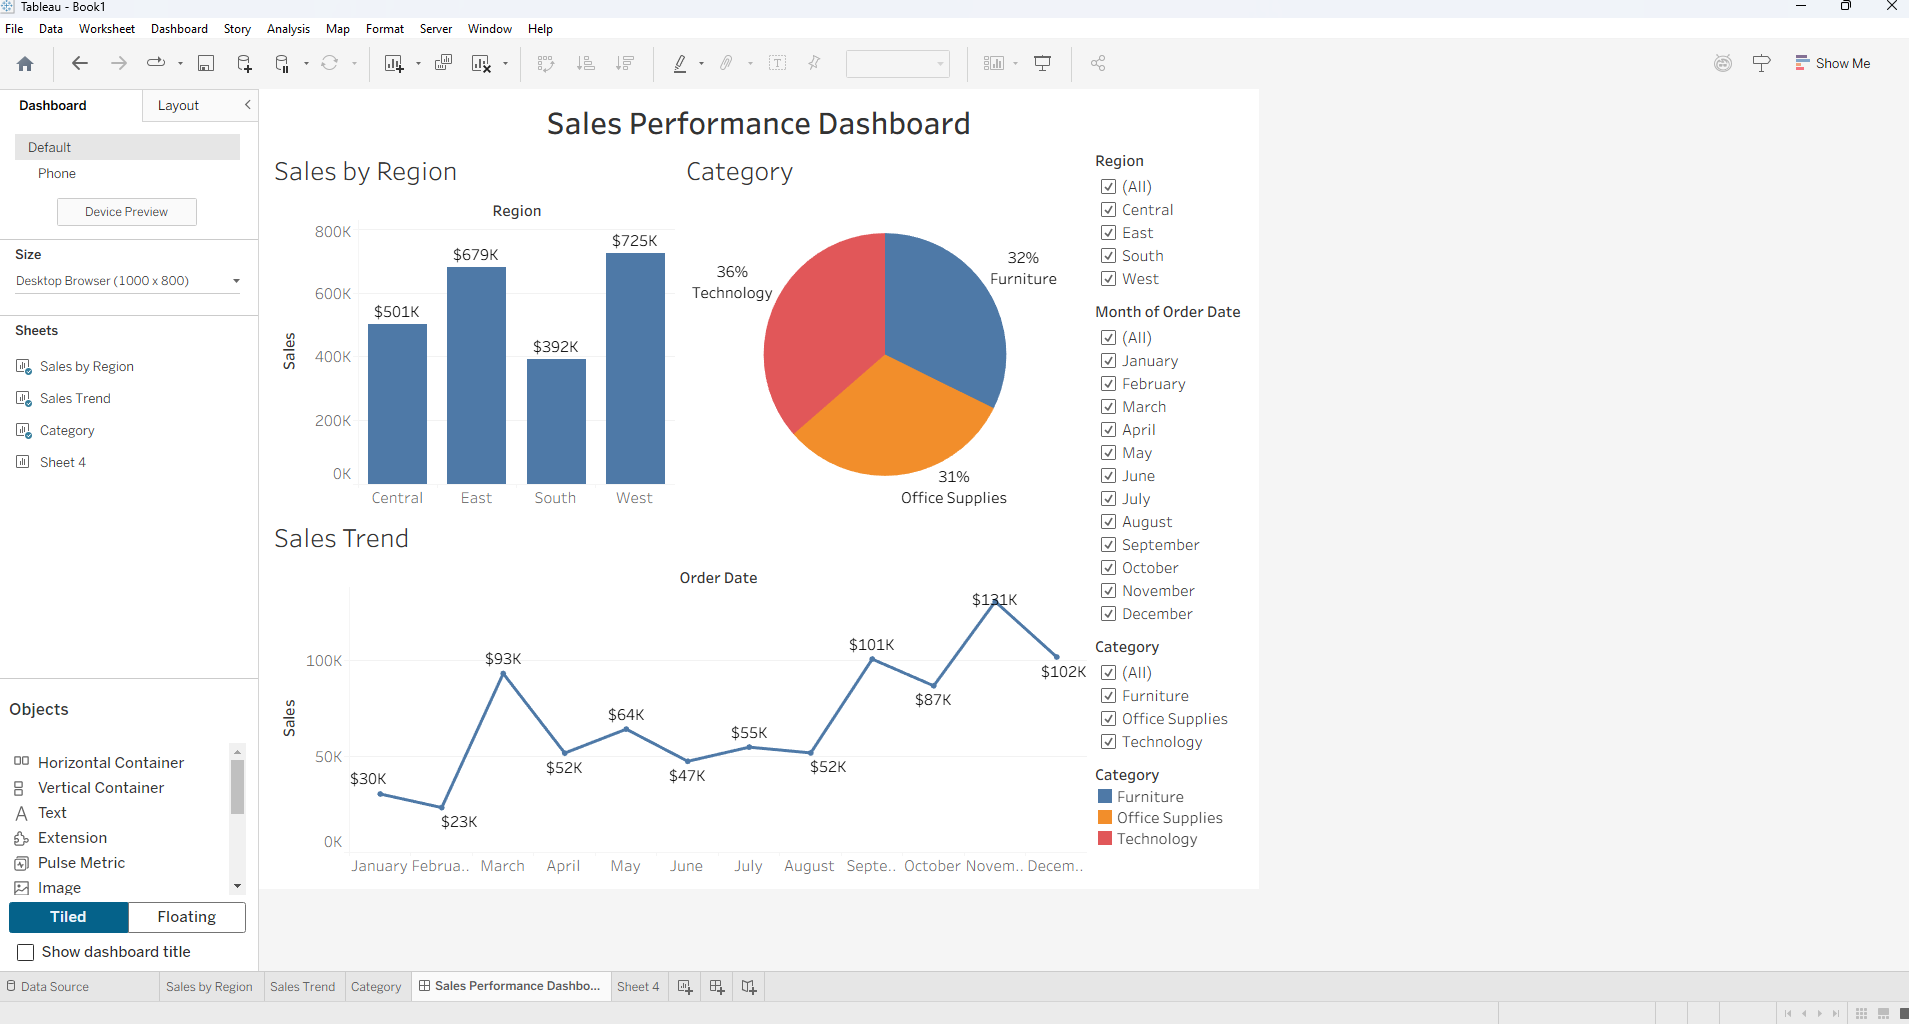

This screenshot's page, from the dashboard's own definition file:
{"tool":"tableau","page":{"name":"Sales Performance Dashboard","canvas":[1000,800],"ordinal":0},"visuals":[{"type":"title","box":[8,8,984,49]},{"type":"worksheet","title":"Sales by Region","mark":"Automatic","rows":["Sales"],"cols":["Region"],"box":[8,57,412,367.5]},{"type":"worksheet","title":"Category","mark":"Pie","box":[420,57,412,367.5]},{"type":"filter","title":"Sales by Region","param":"[federated.128vmtv0bvawqy1b18o2s0h3e4pz].[none:Region:nk]","box":[832,57,160,151]},{"type":"filter","title":"Sales Trend","param":"[federated.128vmtv0bvawqy1b18o2s0h3e4pz].[mn:Order Date:ok]","box":[832,208,160,335]},{"type":"worksheet","title":"Sales Trend","mark":"Automatic","rows":["Sales"],"cols":["Order Date"],"box":[8,424.5,824,367.5]},{"type":"filter","title":"Category","param":"[federated.128vmtv0bvawqy1b18o2s0h3e4pz].[none:Category:nk]","box":[832,543,160,128]},{"type":"legend","title":"Category","param":"[federated.128vmtv0bvawqy1b18o2s0h3e4pz].[none:Category:nk]","box":[832,671,160,93]}]}

Visuals, with their boxes on the page's 1000x800 design canvas (x1, y1, x2, y2). These are canvas units, not pixel positions in the 1909x1024 screenshot, which may show the page scaled, cropped or inside an application window:
title: {"left": 8, "top": 8, "right": 992, "bottom": 57}
"Sales by Region" worksheet: {"left": 8, "top": 57, "right": 420, "bottom": 424}
"Category" worksheet (Pie marks): {"left": 420, "top": 57, "right": 832, "bottom": 424}
"Sales by Region" filter: {"left": 832, "top": 57, "right": 992, "bottom": 208}
"Sales Trend" filter: {"left": 832, "top": 208, "right": 992, "bottom": 543}
"Sales Trend" worksheet: {"left": 8, "top": 424, "right": 832, "bottom": 792}
"Category" filter: {"left": 832, "top": 543, "right": 992, "bottom": 671}
"Category" legend: {"left": 832, "top": 671, "right": 992, "bottom": 764}
